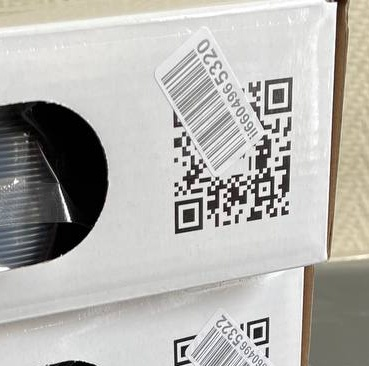2d: (169, 75, 293, 235)
